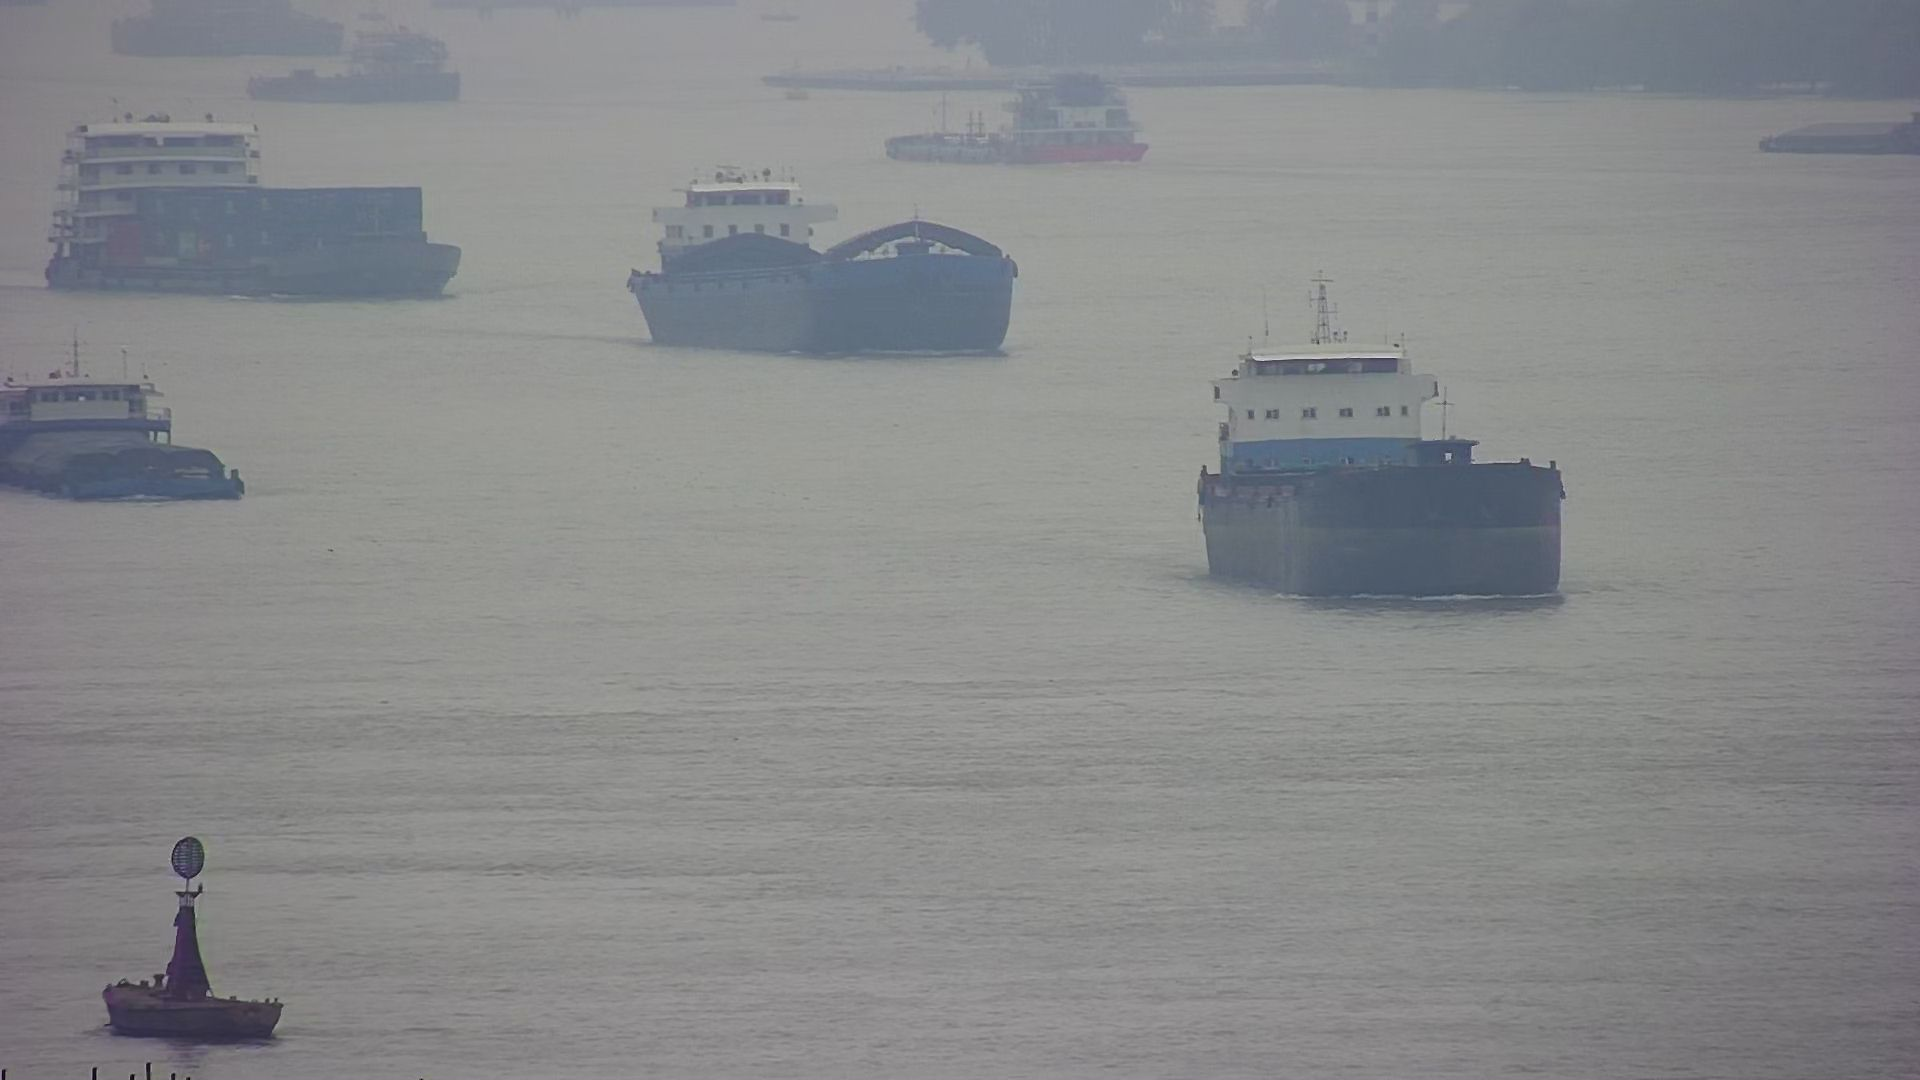boat: (105, 829, 284, 1044)
ship: (1204, 291, 1569, 601), (46, 102, 464, 302), (636, 167, 1010, 363), (1, 328, 244, 504), (882, 65, 1155, 167), (1745, 98, 1920, 161)
